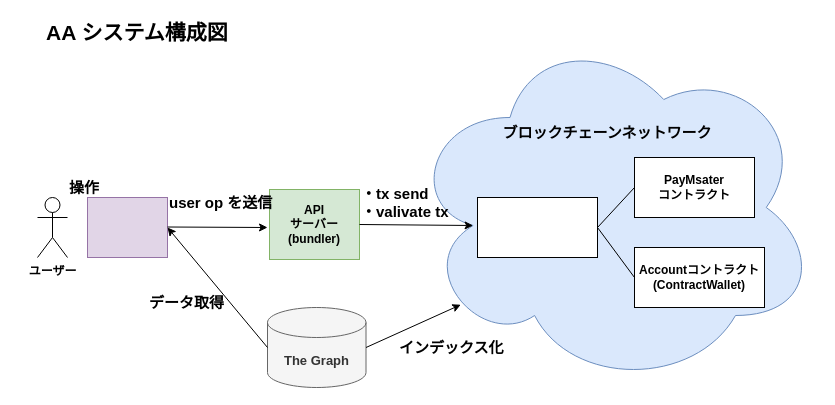
Image size: 835x405. Some labels were removed from this diagram. Each missing label, with the centre of its shape:
エントリーポイント コントラクト: pixel 537 227
フロント エンド: pixel 127 227
